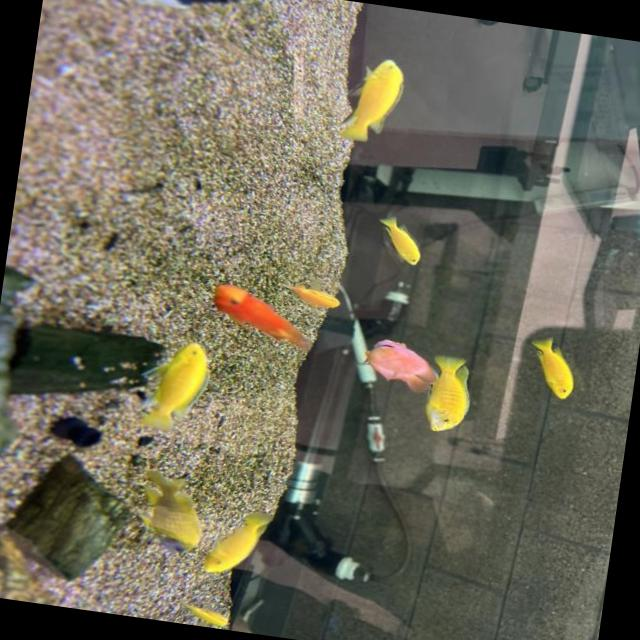YellowCichlid: (320, 43, 420, 169), (123, 461, 217, 566), (126, 338, 218, 442), (196, 504, 285, 602), (414, 348, 485, 446), (370, 206, 448, 277), (521, 335, 582, 404), (172, 598, 248, 632)
